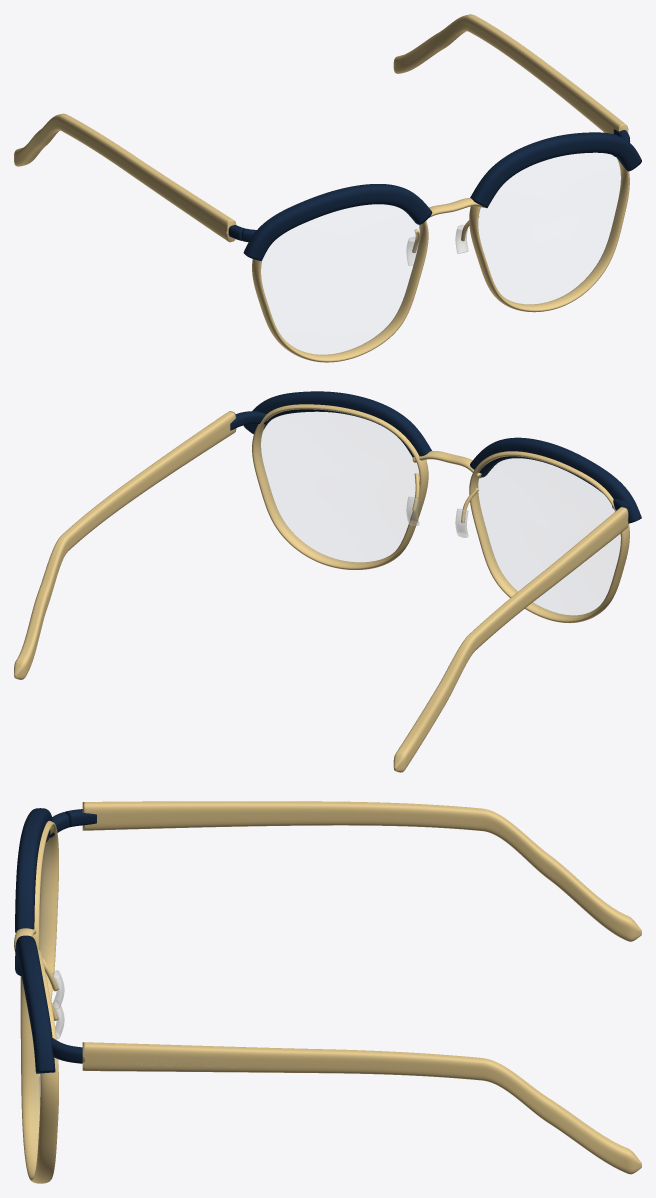
The model's file is prod-r12.glb.
3 renders of one model, top to bottom at view 1: azimuth 30°, elevation 25°; view 2: azimuth 150°, elevation 25°; view 3: azimuth 270°, elevation 25°, orthographic. The views are drawn at different scales.
Visible parts, largest first — view 1: Temple 1, Temple -1, Upper brow -1, Upper brow 1, Frame rim 1, Frame rim -1; view 2: Temple -1, Temple 1, Frame rim 1, Frame rim -1, Upper brow 1, Upper brow -1, Bridge; view 3: Temple 1, Temple -1, Frame rim 1, Frame rim -1, Upper brow 1, Upper brow -1, Hinge -1, Hinge 1.
Part boxes in pixels (x1,y1,x2,y2): Temple 1: (393,14,628,133); Temple -1: (14,113,236,242); Upper brow -1: (243,184,432,260); Upper brow 1: (470,132,641,207); Frame rim 1: (469,157,629,312); Frame rim -1: (252,221,428,362); Temple -1: (393,507,628,772); Temple 1: (14,411,236,679); Frame rim 1: (252,404,428,569); Frame rim -1: (469,451,629,623); Upper brow 1: (243,391,431,457); Upper brow -1: (470,437,641,523); Bridge: (412,451,481,478); Temple 1: (82,1042,641,1174); Temple -1: (82,801,641,941); Frame rim 1: (20,949,58,1183); Frame rim -1: (33,820,58,1000); Upper brow 1: (15,935,55,1073); Upper brow -1: (15,808,52,932); Hinge -1: (48,809,96,837); Hinge 1: (51,1038,82,1063).
Size of the model in its own units: 0.136 by 0.0535 by 0.1415.
